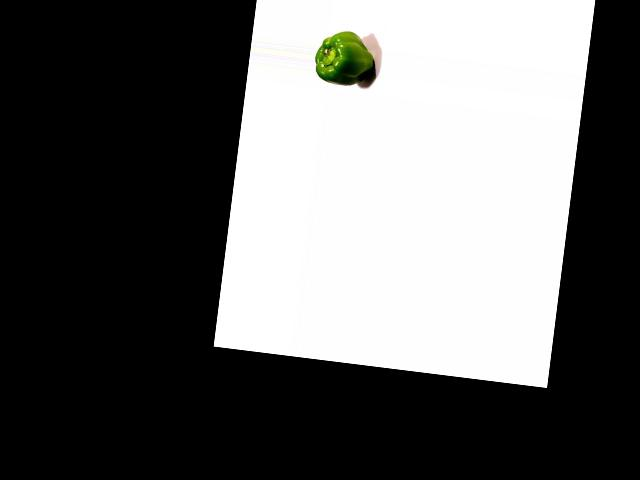bell_pepper: (312, 25, 380, 90)
